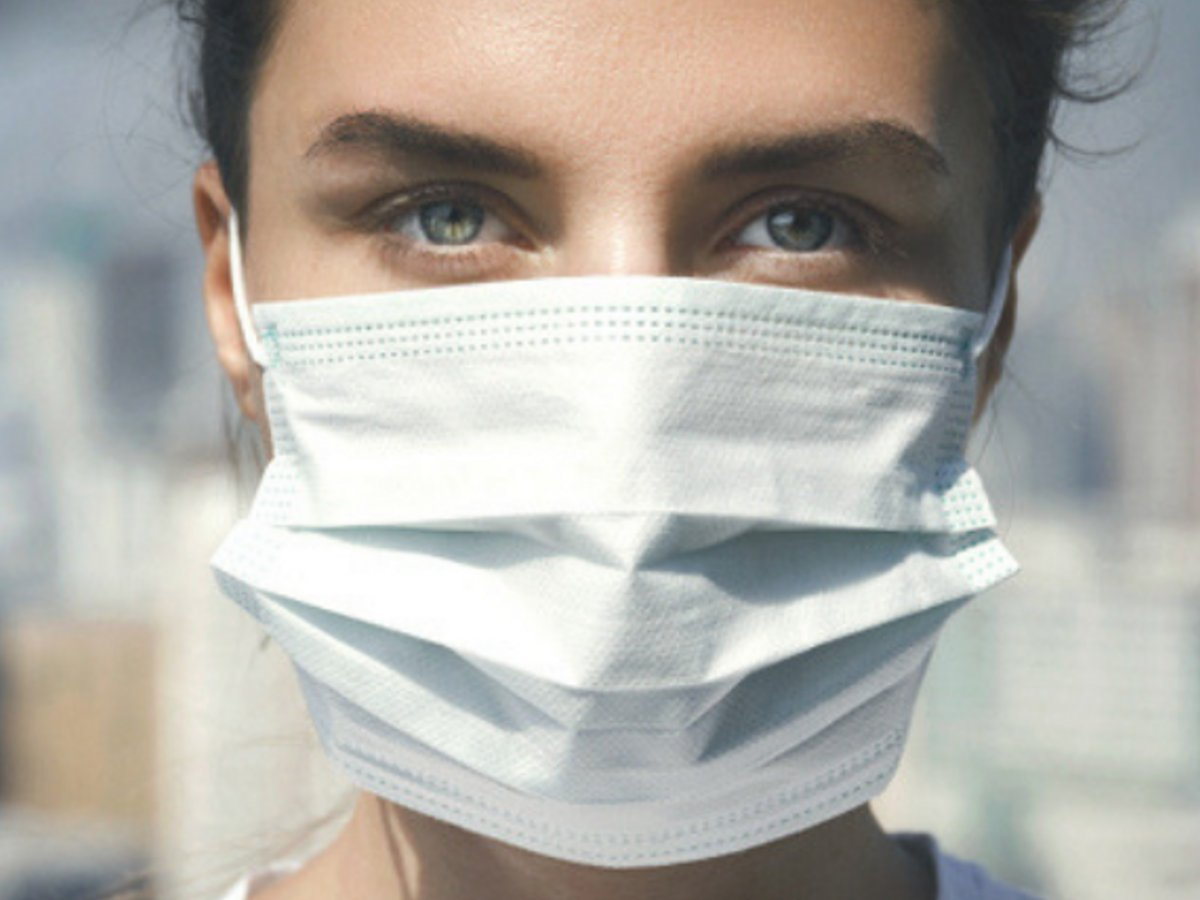mask: (143, 1, 1110, 887)
